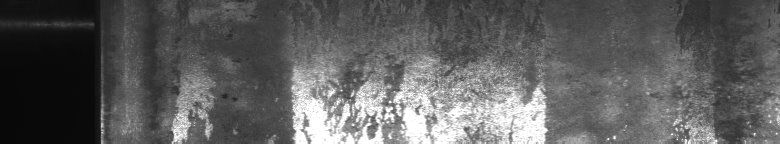kb: (168, 17, 552, 136)
